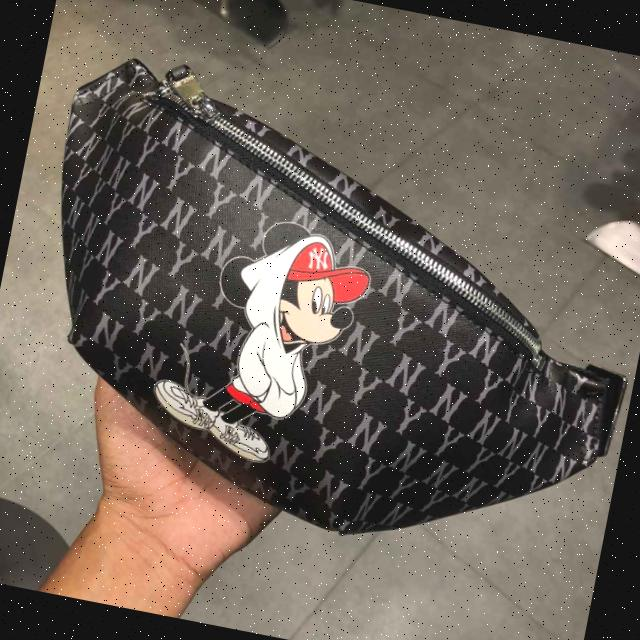handbag: (0, 41, 640, 582)
